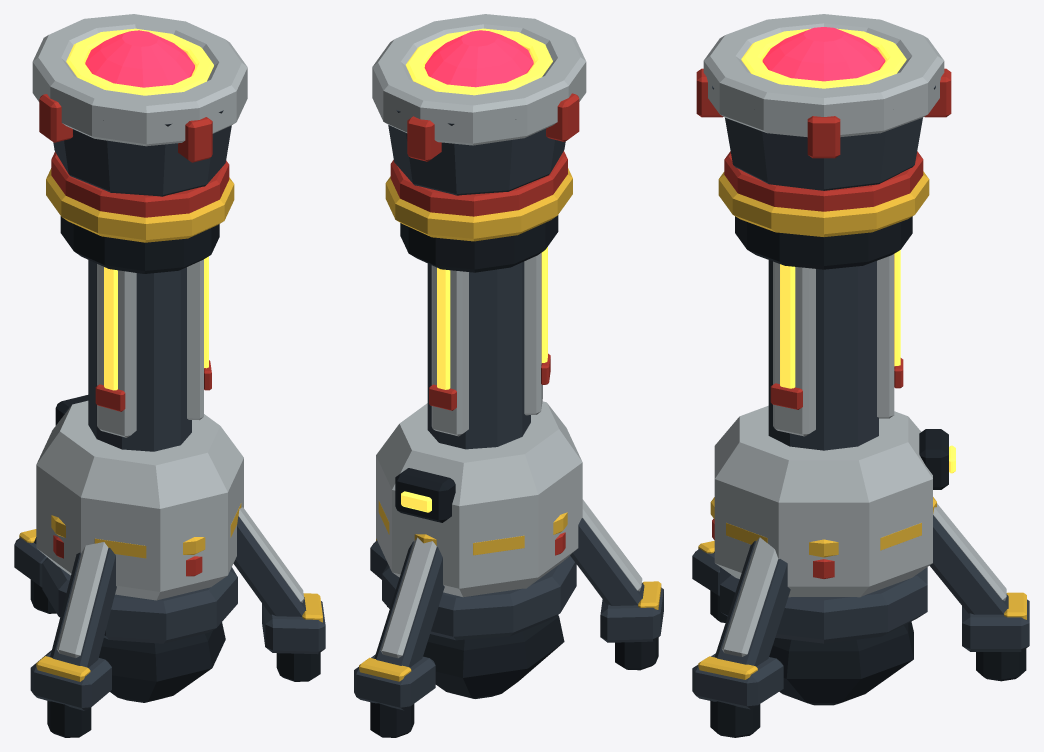
The model's file is orbital_strike_beacon.glb.
The picture shows the model from 3 angles, left to right: view 1: azimuth 30°, elevation 25°; view 2: azimuth 150°, elevation 25°; view 3: azimuth 270°, elevation 25°; orthographic projection.
Visible parts, largest first — view 1: Foundation and chassis, UplinkHead Mesh; view 2: Foundation and chassis, UplinkHead Mesh; view 3: Foundation and chassis, UplinkHead Mesh.
Boxes of the visible parts, x1,y1,x2,y2 form: Foundation and chassis: [14, 152, 325, 737]; UplinkHead Mesh: [32, 14, 247, 196]; Foundation and chassis: [354, 151, 663, 737]; UplinkHead Mesh: [372, 14, 586, 195]; Foundation and chassis: [692, 151, 1029, 737]; UplinkHead Mesh: [696, 14, 951, 190].
Size of the model in its own units: 1.2 by 2.6 by 1.2.
